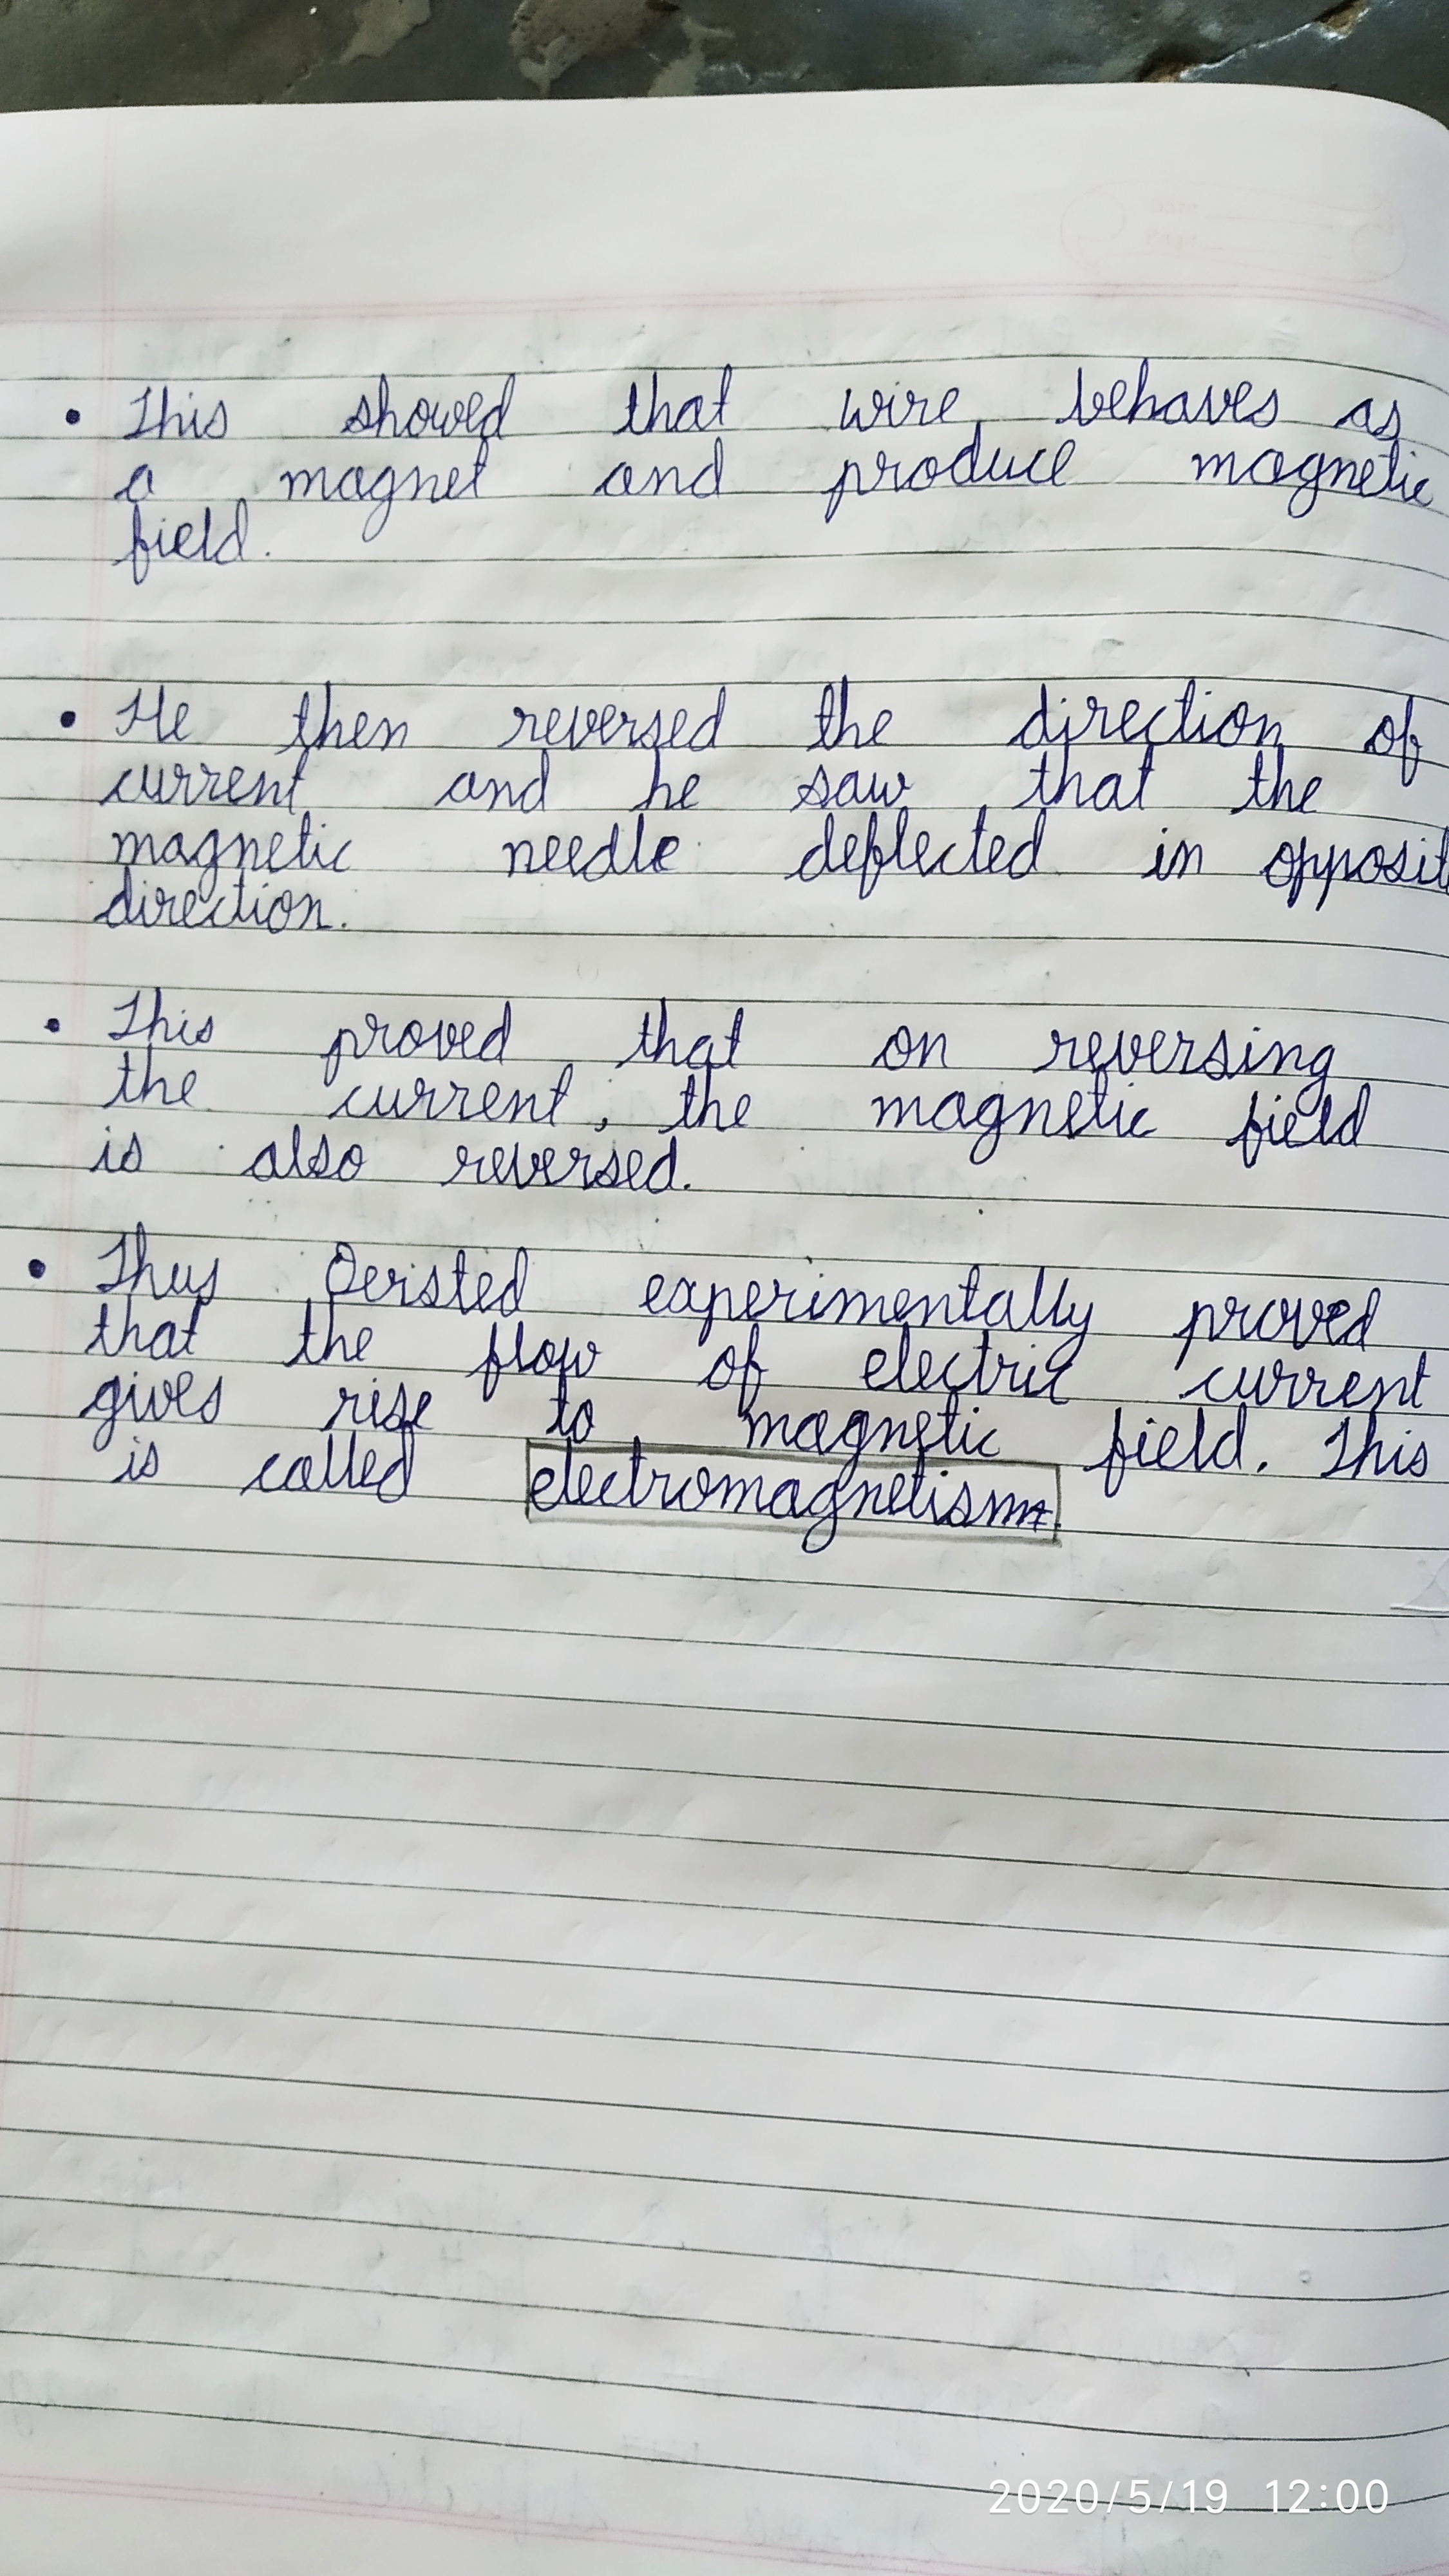H: (113, 685, 166, 741)
O: (322, 1240, 359, 1297)
T: (96, 1233, 129, 1293), (1320, 1415, 1352, 1477), (106, 989, 142, 1042), (126, 386, 152, 441)
a: (929, 1088, 968, 1132), (791, 1408, 830, 1451), (1246, 448, 1286, 487), (980, 1288, 1016, 1330), (122, 462, 157, 502), (249, 1141, 283, 1184), (145, 1318, 179, 1361), (766, 1477, 800, 1520), (600, 460, 635, 497), (283, 1454, 317, 1493), (671, 395, 704, 432), (1157, 389, 1191, 426), (685, 1033, 717, 1072), (333, 464, 364, 501), (159, 830, 188, 865), (1346, 396, 1373, 432)
b: (1070, 364, 1104, 426)
c: (936, 1350, 971, 1392), (253, 1451, 285, 1493), (1198, 1364, 1230, 1405), (1141, 704, 1171, 747), (932, 842, 964, 876), (973, 1428, 1007, 1460), (1125, 1106, 1155, 1139), (338, 1085, 366, 1120), (1023, 448, 1049, 485), (596, 1470, 623, 1506), (205, 895, 232, 929), (331, 839, 356, 874)
d: (1005, 807, 1049, 879), (377, 1428, 416, 1504), (211, 497, 253, 566), (798, 810, 837, 883), (479, 373, 518, 441), (688, 686, 727, 752), (1334, 1083, 1373, 1148), (1212, 1401, 1247, 1470), (497, 1246, 531, 1318), (947, 421, 984, 485), (688, 435, 725, 499), (582, 823, 621, 883), (1343, 1288, 1382, 1348), (478, 1000, 513, 1065), (1019, 681, 1053, 748), (104, 867, 134, 929)
e: (1154, 1424, 1187, 1470), (860, 1346, 893, 1391), (529, 1467, 561, 1513), (649, 833, 685, 874), (1111, 699, 1145, 741), (1332, 1369, 1368, 1408), (734, 1279, 768, 1320), (1079, 1030, 1111, 1072), (173, 1371, 202, 1419), (1056, 1090, 1086, 1134), (471, 1269, 501, 1313), (911, 1348, 941, 1392), (1049, 439, 1076, 488), (908, 830, 936, 876), (1143, 1028, 1171, 1074), (909, 1408, 939, 1451), (262, 830, 290, 874), (168, 522, 200, 561), (345, 709, 375, 750), (621, 1146, 648, 1192), (166, 699, 195, 741), (639, 1272, 667, 1315), (883, 1472, 911, 1514), (932, 386, 962, 425), (863, 708, 893, 747), (982, 835, 1012, 874), (173, 1069, 203, 1108), (538, 833, 566, 874), (476, 1081, 504, 1122), (665, 708, 692, 750), (412, 1389, 439, 1431), (727, 1092, 757, 1129), (540, 706, 568, 745), (573, 1461, 598, 1506), (1357, 458, 1384, 499), (540, 1146, 566, 1187), (886, 1288, 918, 1322), (1104, 377, 1129, 419), (1231, 380, 1256, 423), (563, 835, 587, 878), (835, 833, 862, 872), (485, 1145, 511, 1184), (441, 465, 469, 501), (1277, 1111, 1304, 1148), (356, 1447, 379, 1490), (598, 704, 623, 743), (359, 1263, 384, 1302), (352, 1325, 377, 1364), (464, 391, 485, 433), (179, 888, 200, 929), (458, 1021, 479, 1060)
f: (736, 1322, 764, 1417), (856, 810, 885, 901), (1102, 1407, 1129, 1499), (127, 504, 154, 586), (479, 1322, 504, 1403), (1399, 695, 1421, 789), (1240, 1090, 1265, 1169)
g: (798, 1479, 840, 1553), (359, 464, 398, 543), (835, 1408, 870, 1493), (1295, 1044, 1336, 1116), (968, 1092, 1007, 1166), (1286, 449, 1325, 518), (90, 1375, 124, 1453), (193, 828, 221, 904)
h: (131, 1219, 157, 1297), (1353, 1414, 1385, 1477), (835, 674, 862, 748), (136, 1044, 168, 1106), (315, 681, 343, 748), (320, 1297, 349, 1364), (644, 372, 672, 433), (1129, 357, 1157, 419), (373, 373, 400, 439), (695, 1069, 724, 1129), (653, 998, 678, 1063), (157, 386, 184, 439), (145, 987, 170, 1044), (119, 1295, 142, 1355)
i: (924, 1468, 952, 1525), (800, 1272, 830, 1322), (1109, 1083, 1136, 1138), (90, 1122, 117, 1175), (1131, 1415, 1157, 1468), (1053, 695, 1081, 745), (1237, 1024, 1265, 1074), (1408, 835, 1435, 886), (1019, 1343, 1044, 1398), (1192, 690, 1217, 743), (122, 1369, 147, 1422), (1385, 1428, 1412, 1477), (957, 1405, 982, 1456), (1148, 826, 1171, 881), (363, 1376, 384, 1430), (248, 881, 271, 927), (1398, 449, 1417, 502), (1263, 1093, 1283, 1146), (133, 878, 152, 929), (184, 391, 203, 439), (885, 380, 904, 428), (310, 821, 329, 869), (120, 1435, 140, 1483), (152, 517, 173, 559), (172, 1007, 191, 1047)
l: (890, 1322, 916, 1392), (1021, 1267, 1047, 1327), (888, 807, 913, 870), (1185, 1407, 1210, 1470), (557, 1437, 579, 1506), (281, 1123, 308, 1178), (628, 812, 651, 874), (317, 1433, 341, 1490), (340, 1431, 363, 1491), (1311, 1093, 1336, 1146), (508, 1318, 531, 1373), (195, 506, 216, 563), (1047, 1276, 1069, 1329)
m: (832, 1286, 886, 1327), (717, 1472, 764, 1514), (872, 1093, 922, 1129), (985, 1490, 1030, 1529), (283, 464, 329, 501), (110, 828, 156, 865), (1191, 449, 1237, 485), (745, 1412, 791, 1447)
n: (1371, 1375, 1408, 1415), (405, 464, 441, 504), (1017, 1097, 1051, 1136), (502, 839, 536, 876), (853, 1479, 883, 1520), (918, 1292, 952, 1327), (295, 892, 326, 931), (878, 1415, 908, 1454), (916, 1030, 947, 1067), (1270, 1042, 1302, 1076), (1327, 456, 1357, 492), (379, 717, 409, 752), (1175, 839, 1203, 876), (649, 464, 681, 495), (1253, 713, 1281, 748), (234, 832, 258, 870), (508, 1088, 536, 1122)
o: (1212, 699, 1251, 748), (674, 1465, 713, 1513), (1253, 1297, 1290, 1341), (879, 1024, 913, 1072), (704, 1345, 738, 1392), (1263, 840, 1295, 888), (264, 888, 295, 936), (1353, 844, 1387, 885), (333, 1143, 366, 1184), (1368, 713, 1398, 757), (906, 455, 941, 492), (391, 1019, 425, 1058), (571, 1398, 598, 1444), (527, 1338, 557, 1376), (403, 396, 432, 437)
p: (1175, 1300, 1217, 1373), (824, 458, 862, 524), (1318, 844, 1352, 909), (322, 1026, 357, 1088), (701, 1283, 734, 1345), (1293, 835, 1320, 909)
qqcoma: (594, 1116, 609, 1134)
qqfstop: (338, 920, 350, 934), (681, 1182, 694, 1192), (262, 548, 272, 559)
r: (1265, 1357, 1300, 1410), (763, 1277, 798, 1322), (1219, 1293, 1253, 1339), (448, 1143, 485, 1184), (1044, 1028, 1077, 1072), (1079, 695, 1111, 740), (405, 1076, 437, 1120), (640, 1467, 672, 1511), (870, 449, 902, 492), (361, 1012, 393, 1054), (1300, 1364, 1330, 1408), (989, 1352, 1021, 1392), (441, 1079, 471, 1122), (380, 1267, 412, 1306), (333, 1385, 363, 1426), (564, 1146, 593, 1187), (150, 885, 177, 925), (1171, 1030, 1194, 1076), (901, 389, 929, 426)
s: (1200, 1028, 1233, 1081), (382, 1380, 410, 1431), (943, 1479, 973, 1527), (414, 1263, 444, 1309), (341, 393, 373, 435), (117, 1131, 147, 1175), (637, 708, 667, 750), (1249, 387, 1279, 428), (593, 1148, 623, 1189), (202, 398, 230, 441), (306, 1132, 331, 1175), (138, 1440, 161, 1481), (193, 1014, 216, 1046)
t: (541, 1063, 577, 1123), (621, 1435, 648, 1507), (968, 1330, 996, 1398), (964, 803, 991, 874), (706, 364, 736, 426), (1169, 679, 1198, 743), (720, 1007, 748, 1070), (464, 439, 494, 497), (952, 1265, 982, 1323), (1085, 1070, 1113, 1132), (294, 1297, 318, 1366), (904, 1451, 929, 1520), (934, 1392, 961, 1456), (674, 1072, 701, 1131), (446, 1249, 471, 1311), (812, 685, 835, 750), (288, 688, 313, 748), (111, 1049, 138, 1104), (88, 1302, 115, 1357), (1408, 1350, 1431, 1412), (547, 1375, 570, 1437), (617, 380, 642, 435), (292, 809, 313, 869), (180, 1302, 203, 1357), (1378, 441, 1399, 492), (230, 870, 249, 924), (632, 1010, 653, 1058)
u: (1231, 1362, 1265, 1407), (368, 1083, 402, 1118), (985, 446, 1017, 483), (166, 1261, 195, 1295)
v: (1290, 1297, 1325, 1350), (564, 704, 600, 752), (1109, 1028, 1143, 1076), (510, 1141, 540, 1189), (145, 1376, 175, 1422), (1200, 384, 1231, 425), (432, 1017, 458, 1063)
w: (839, 386, 885, 433), (557, 1336, 600, 1378), (430, 400, 465, 437)
x: (665, 1276, 702, 1316)
y: (1044, 1300, 1095, 1375)
